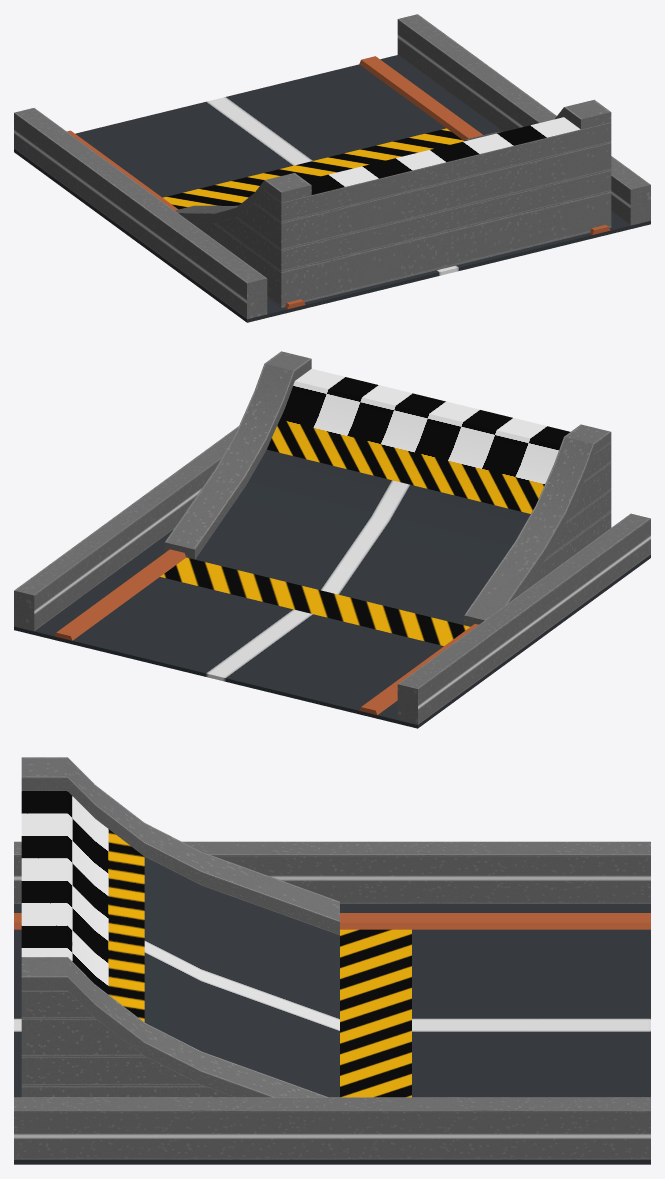
The model's file is kartkids_base_trk_500_jmp_03_long_midstart_to_edge_1x1.gltf.
3 views of the same model, one above another, from view 1: azimuth 30°, elevation 25°; view 2: azimuth 150°, elevation 25°; view 3: azimuth 270°, elevation 25° (orthographic). The views are drawn at different scales.
Visible parts, largest first — view 1: kartkids_base_trk_500_jmp_03_long_midstart_to_edge_1x1, kartkids_base_trk_500_jmp_03_long_midstart_to_edge_1x1.002, kartkids_base_trk_500_jmp_03_long_midstart_to_edge_1x1.001; view 2: kartkids_base_trk_500_jmp_03_long_midstart_to_edge_1x1, kartkids_base_trk_500_jmp_03_long_midstart_to_edge_1x1.002, kartkids_base_trk_500_jmp_03_long_midstart_to_edge_1x1.001; view 3: kartkids_base_trk_500_jmp_03_long_midstart_to_edge_1x1, kartkids_base_trk_500_jmp_03_long_midstart_to_edge_1x1.002, kartkids_base_trk_500_jmp_03_long_midstart_to_edge_1x1.001.
Boxes of the visible parts, bbox=[...] form: kartkids_base_trk_500_jmp_03_long_midstart_to_edge_1x1: bbox=[175, 99, 611, 307]; kartkids_base_trk_500_jmp_03_long_midstart_to_edge_1x1.002: bbox=[14, 55, 650, 322]; kartkids_base_trk_500_jmp_03_long_midstart_to_edge_1x1.001: bbox=[14, 14, 650, 319]; kartkids_base_trk_500_jmp_03_long_midstart_to_edge_1x1: bbox=[164, 351, 611, 626]; kartkids_base_trk_500_jmp_03_long_midstart_to_edge_1x1.002: bbox=[14, 530, 650, 728]; kartkids_base_trk_500_jmp_03_long_midstart_to_edge_1x1.001: bbox=[14, 426, 650, 724]; kartkids_base_trk_500_jmp_03_long_midstart_to_edge_1x1: bbox=[21, 757, 339, 1097]; kartkids_base_trk_500_jmp_03_long_midstart_to_edge_1x1.002: bbox=[14, 904, 650, 1164]; kartkids_base_trk_500_jmp_03_long_midstart_to_edge_1x1.001: bbox=[14, 841, 650, 1159].
Bounding box in the file's own units: 10 × 2.82 × 10.
Materials: 2 (2 with a texture image).
